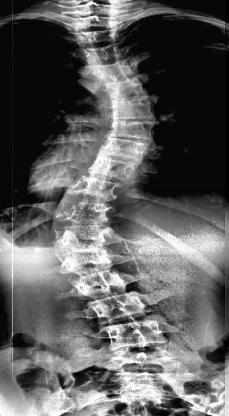Vertebrae: (98, 322, 178, 349), (49, 196, 119, 224), (84, 294, 158, 318), (70, 272, 136, 298), (96, 97, 158, 123), (66, 176, 128, 200), (50, 228, 124, 248), (99, 121, 160, 145), (93, 78, 155, 100), (57, 256, 138, 272), (97, 138, 152, 160), (86, 158, 140, 180), (78, 46, 136, 66), (87, 60, 143, 78), (72, 29, 126, 46), (70, 14, 122, 30)
